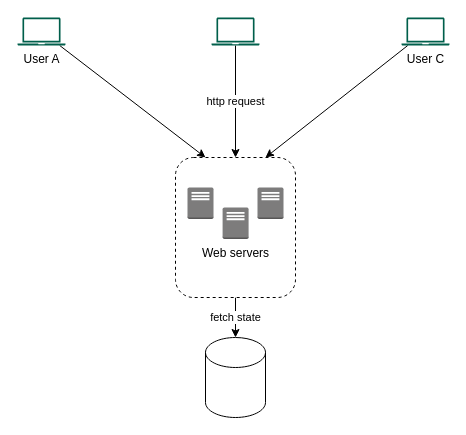
This 466x435 diagram has some shape labels left out. The centre of each missing label's shape, as x and y in pixels:
Shared Storage: point 235,377
User B: point 235,31
